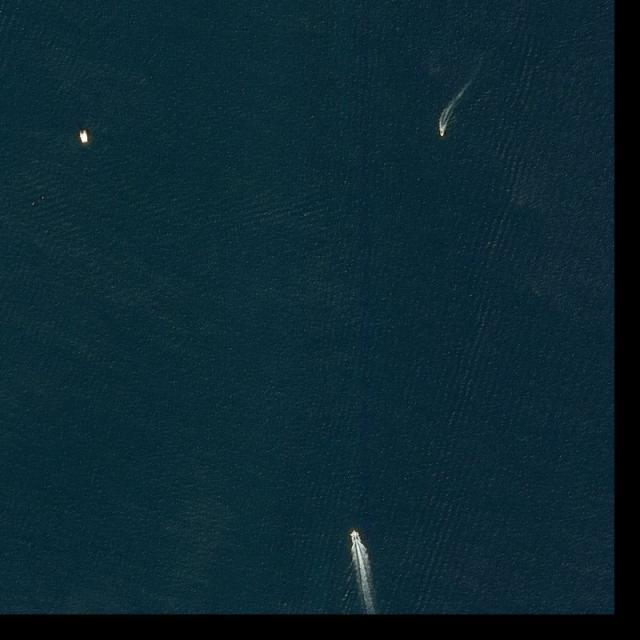ship: (79, 130, 88, 143), (439, 130, 445, 138), (352, 530, 357, 536)
